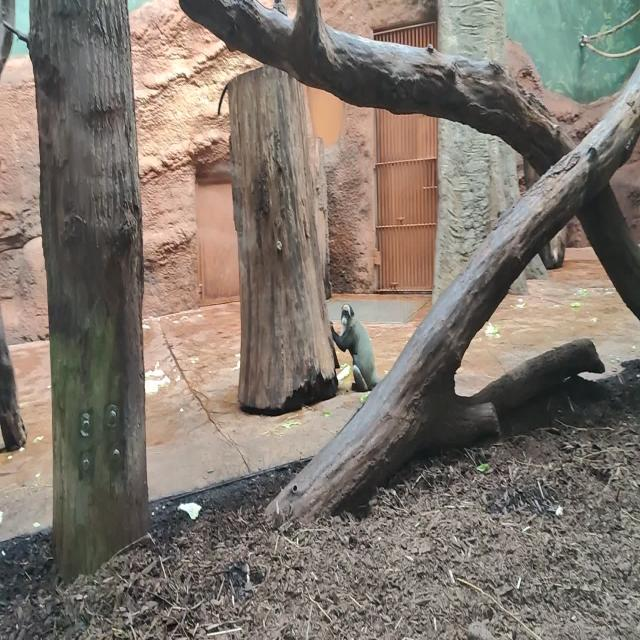monkey: (330, 302, 383, 392)
